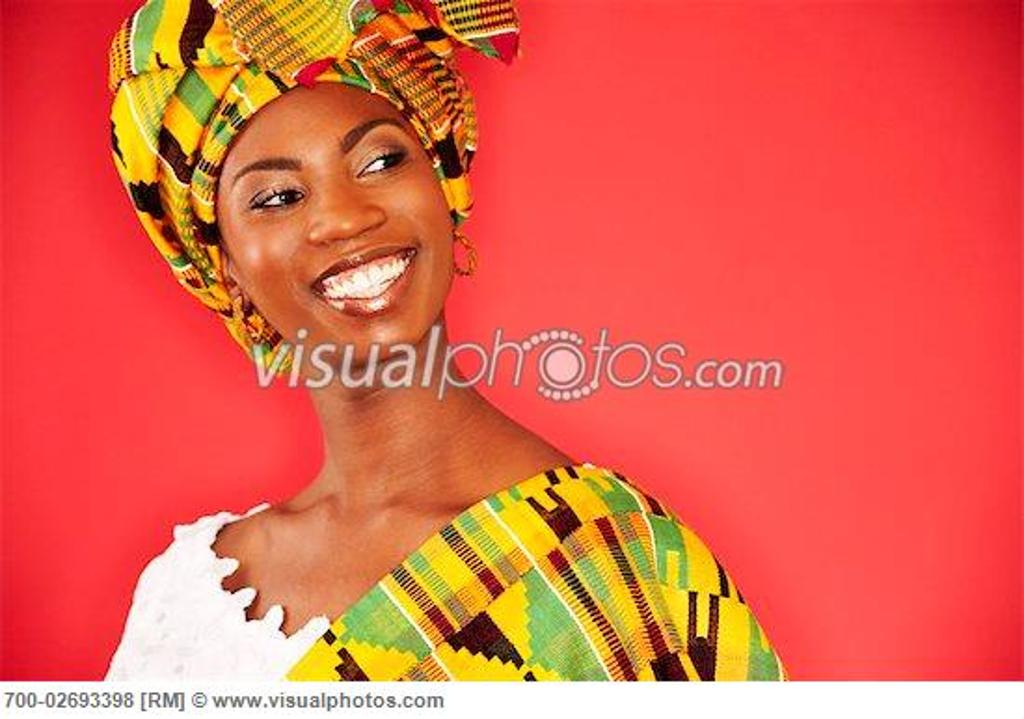face: (218, 72, 450, 356)
